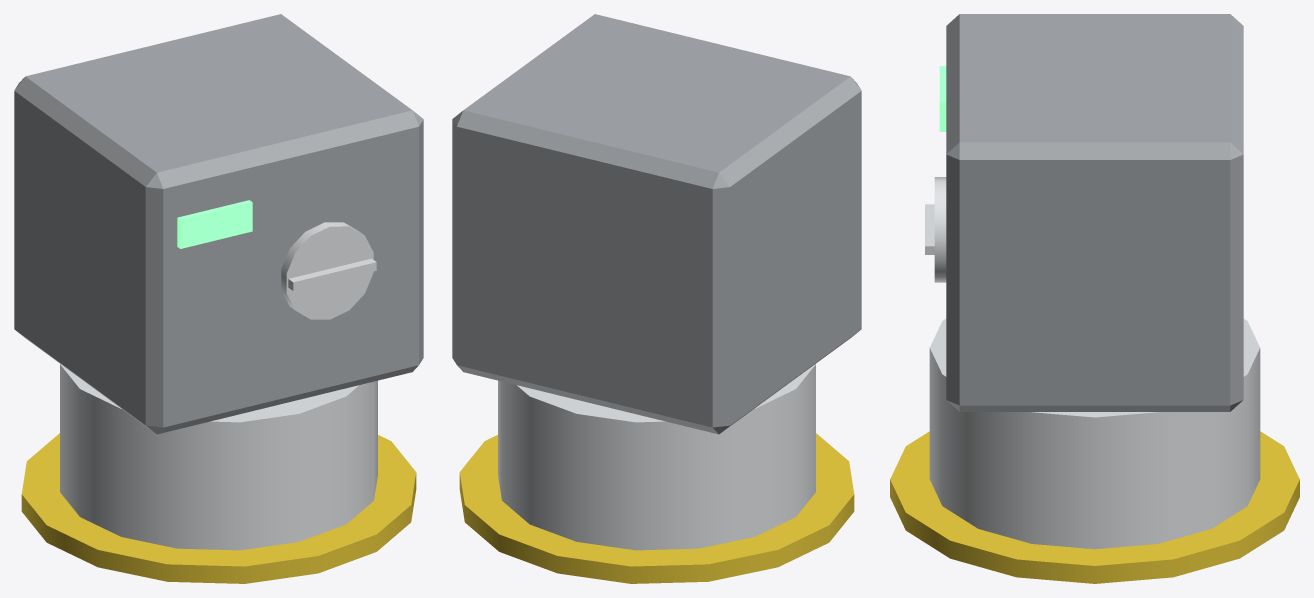
Rendered from an_floorsafe.glb.
3 renders of one model, left to right at view 1: azimuth 30°, elevation 25°; view 2: azimuth 150°, elevation 25°; view 3: azimuth 270°, elevation 25°, orthographic. The views are drawn at different scales.
Visible parts, largest first — view 1: an_floorsafe; view 2: an_floorsafe; view 3: an_floorsafe.
Part boxes in pixels (x1,y1,x2,y2): an_floorsafe: (14,14,423,583); an_floorsafe: (452,14,861,583); an_floorsafe: (890,14,1299,583).
Size of the model in its own units: 1.24 by 1.4 by 1.24.
